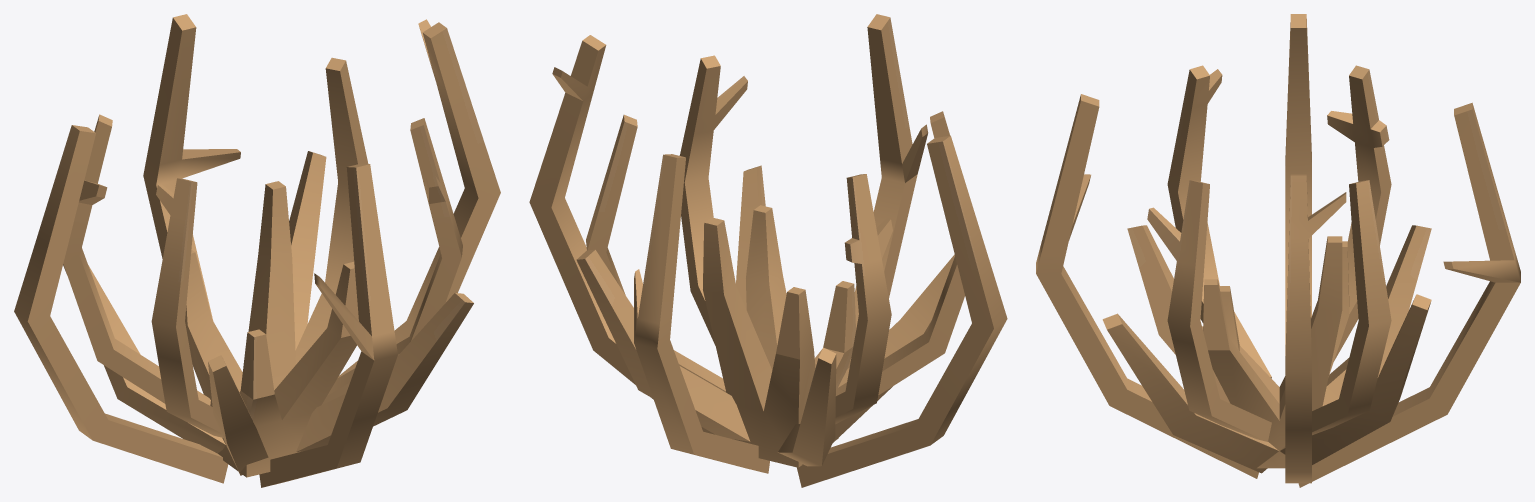
File: Tumbleweed.fbx
The picture shows the model from 3 angles, left to right: view 1: azimuth 30°, elevation 25°; view 2: azimuth 150°, elevation 25°; view 3: azimuth 270°, elevation 25°; orthographic projection. The views are drawn at different scales.
Visible parts, largest first — view 1: Tumbleweed; view 2: Tumbleweed; view 3: Tumbleweed.
Boxes of the visible parts, <box> form: Tumbleweed: <box>14,14,500,487</box>; Tumbleweed: <box>529,14,1007,487</box>; Tumbleweed: <box>1036,14,1520,487</box>.
Bounding box in the file's own units: 10.23 × 8.23 × 9.29.
